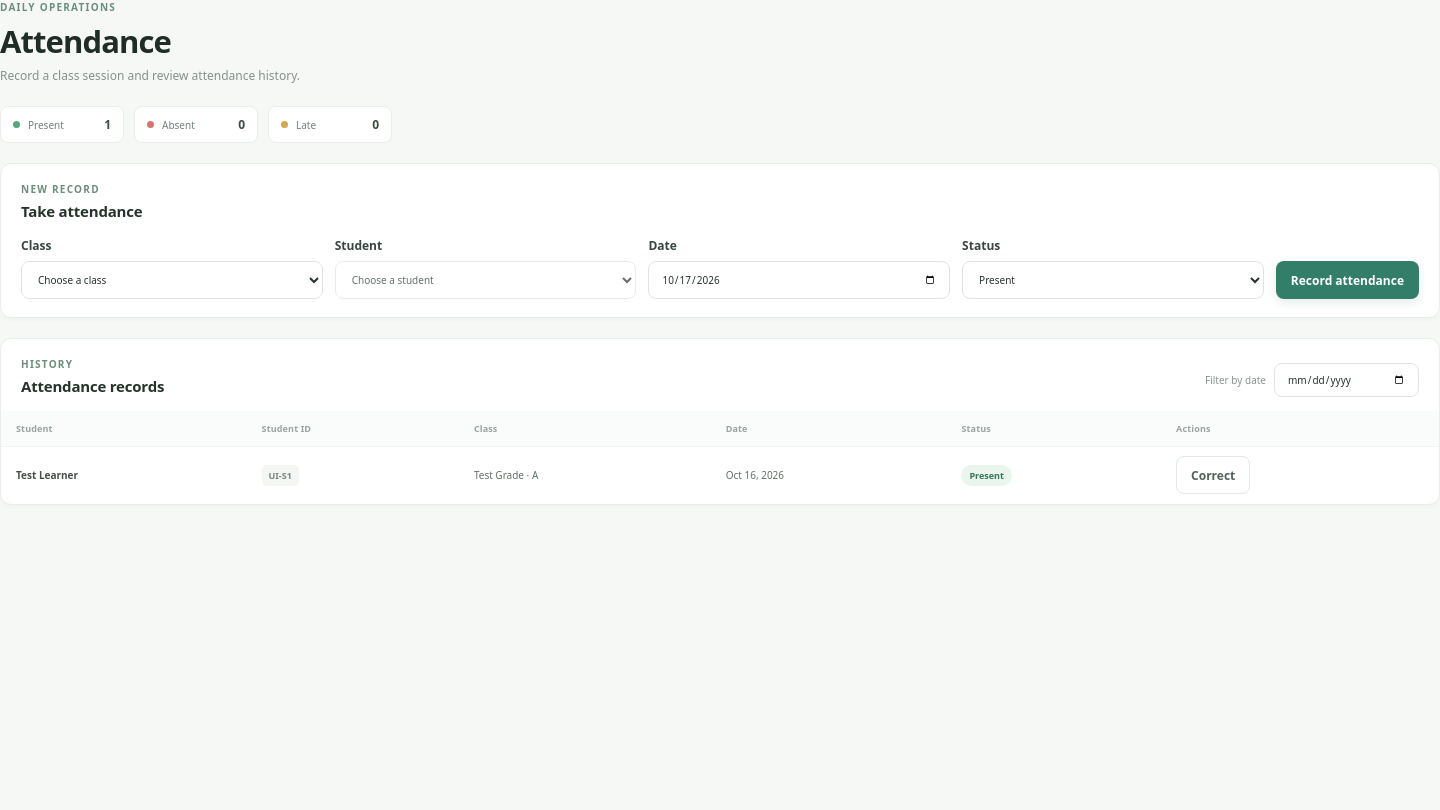
Test: AttendancePage correction › lets an administrator correct a record and reloads the audit history
Click the button "Correct" at (1213, 475), box [1176,456,1250,494]
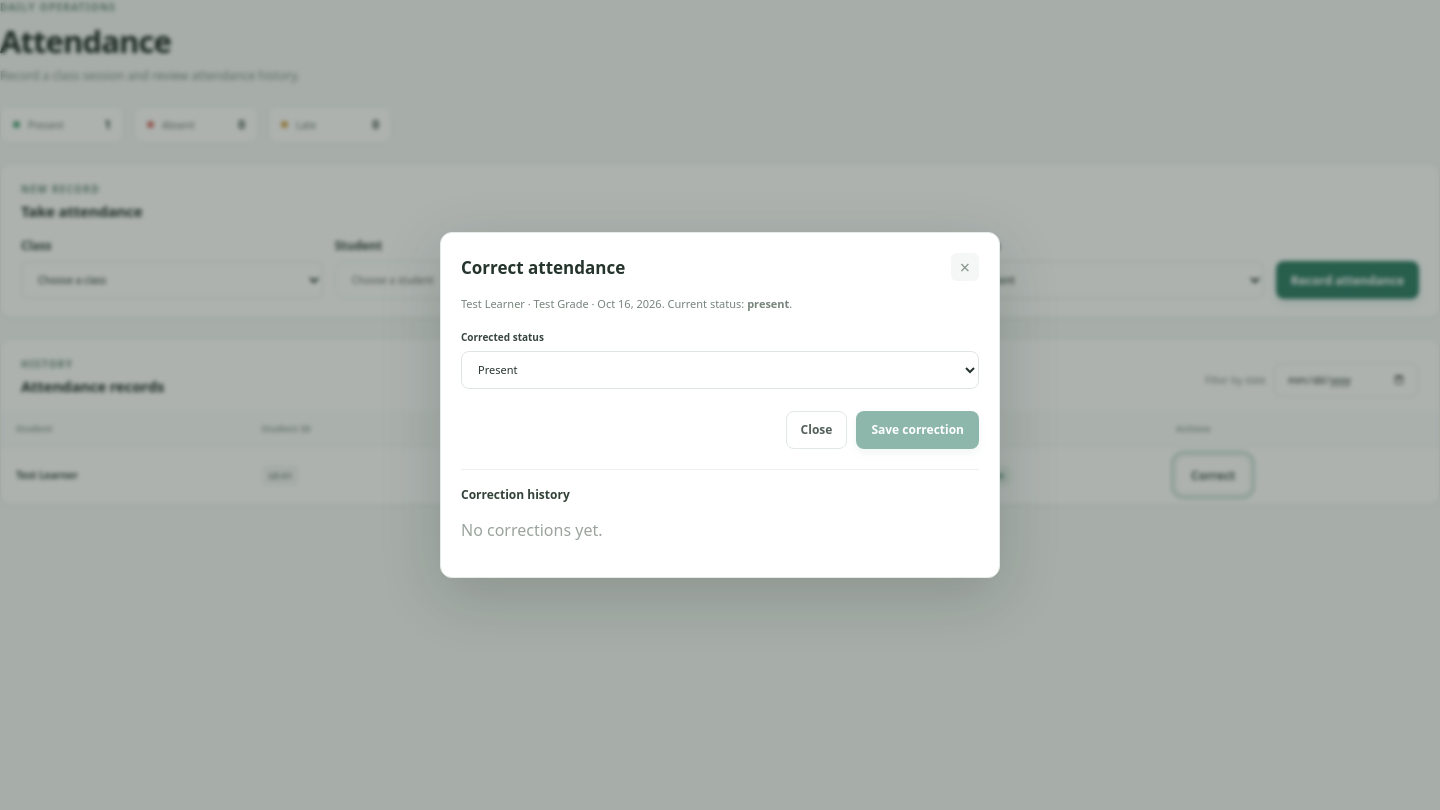
Now the text "No corrections yet." is shown, box [461,519,602,541]
Select "Late" in the dropdown labelled "Corrected status" at (720, 370), box [461,351,979,389]
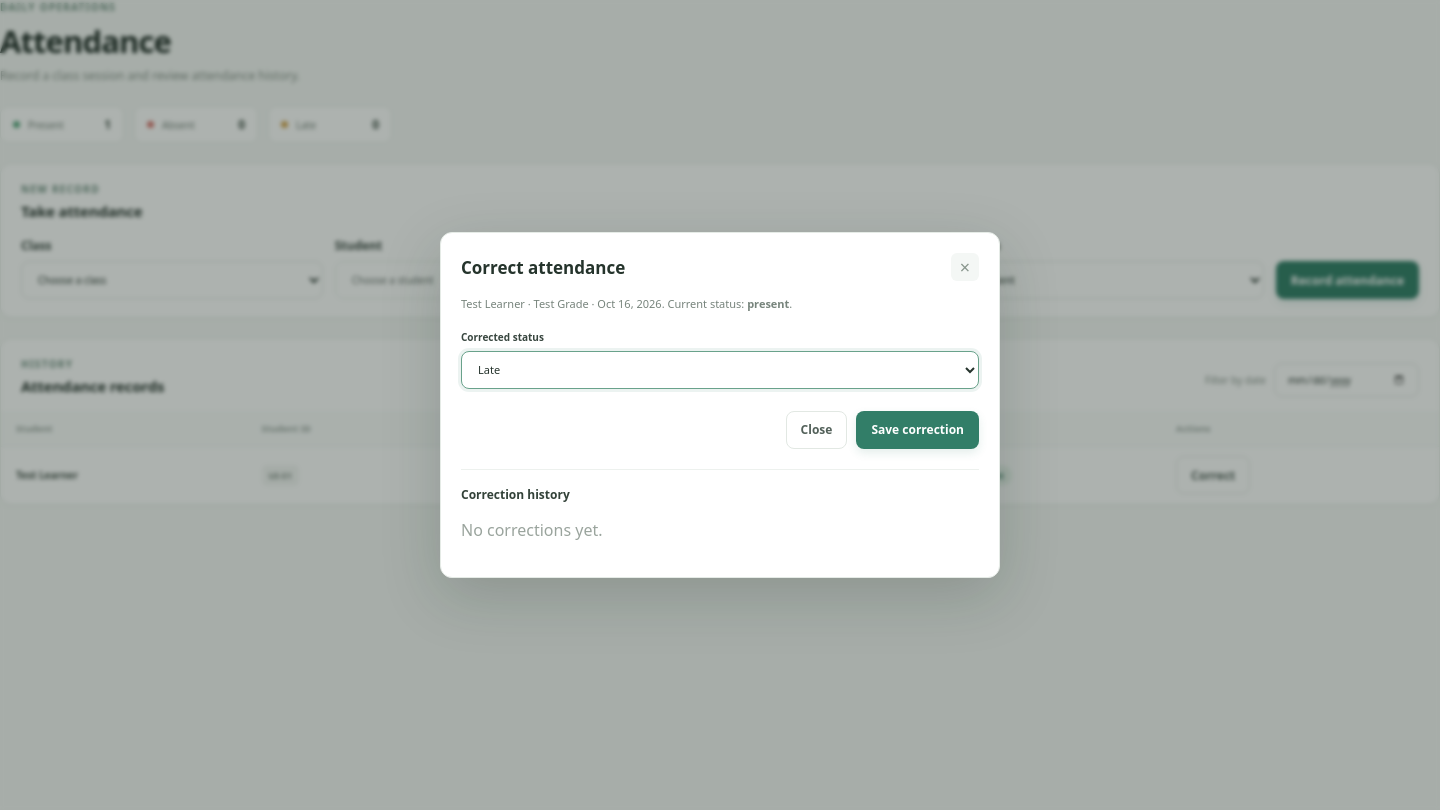
Click the button "Save correction" at (918, 430), box [856,411,979,449]
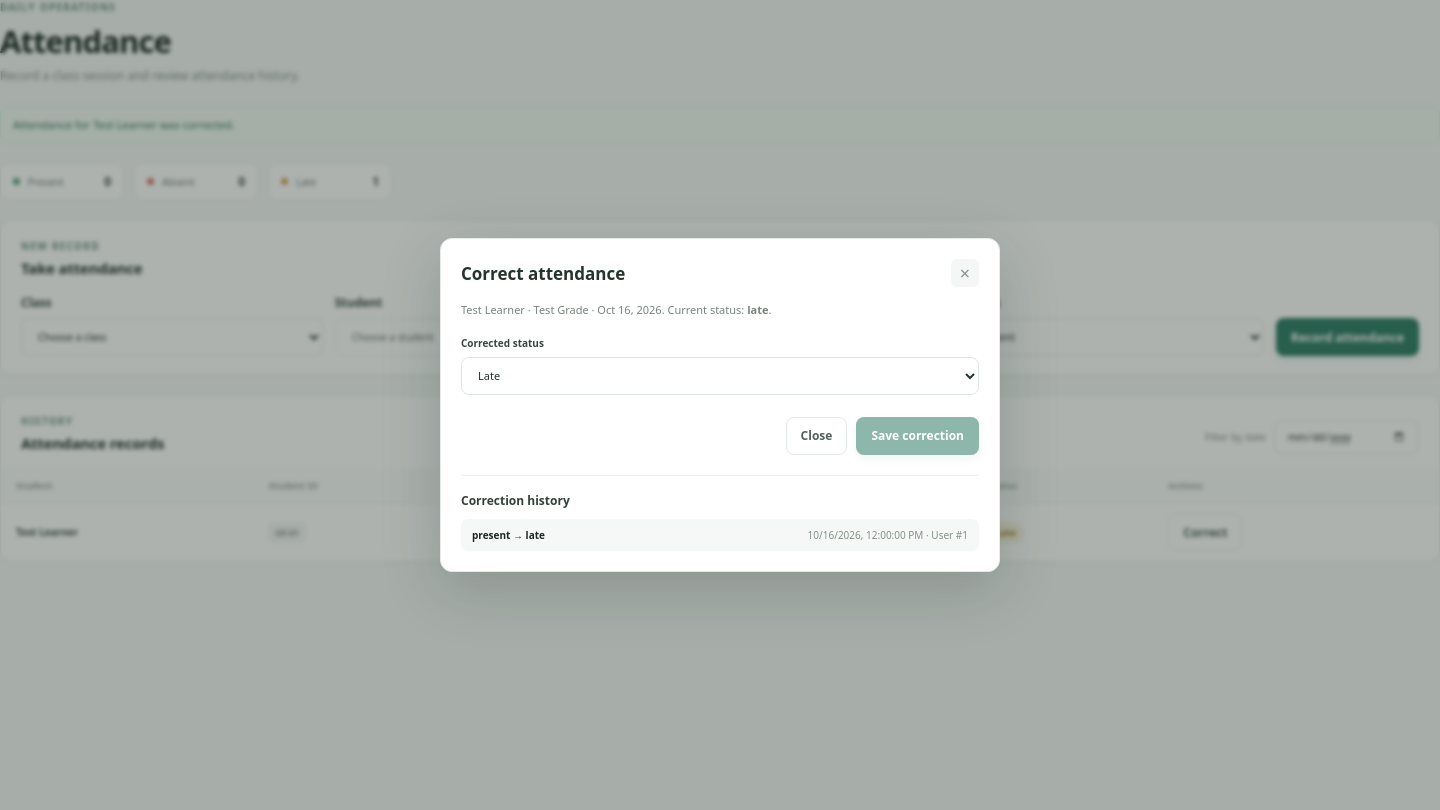
Now the text "Attendance for Test Learner was corrected." is shown, box [0,106,1439,143]
Now the text "present → late" is shown, box [472,528,545,542]
